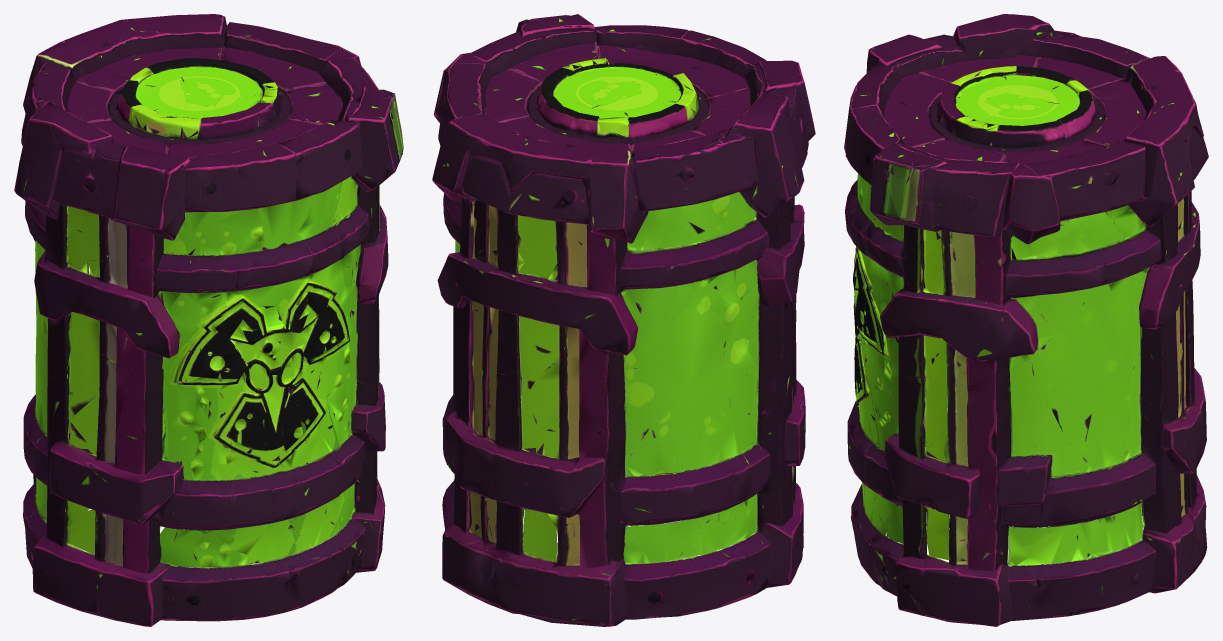
Rendered from toxic_barrel.glb.
The picture shows the model from 3 angles, left to right: view 1: azimuth 30°, elevation 25°; view 2: azimuth 150°, elevation 25°; view 3: azimuth 270°, elevation 25°; orthographic projection.
Size of the model in its own units: 1.44 by 1.9 by 1.32.
3 materials, 2 textured.
